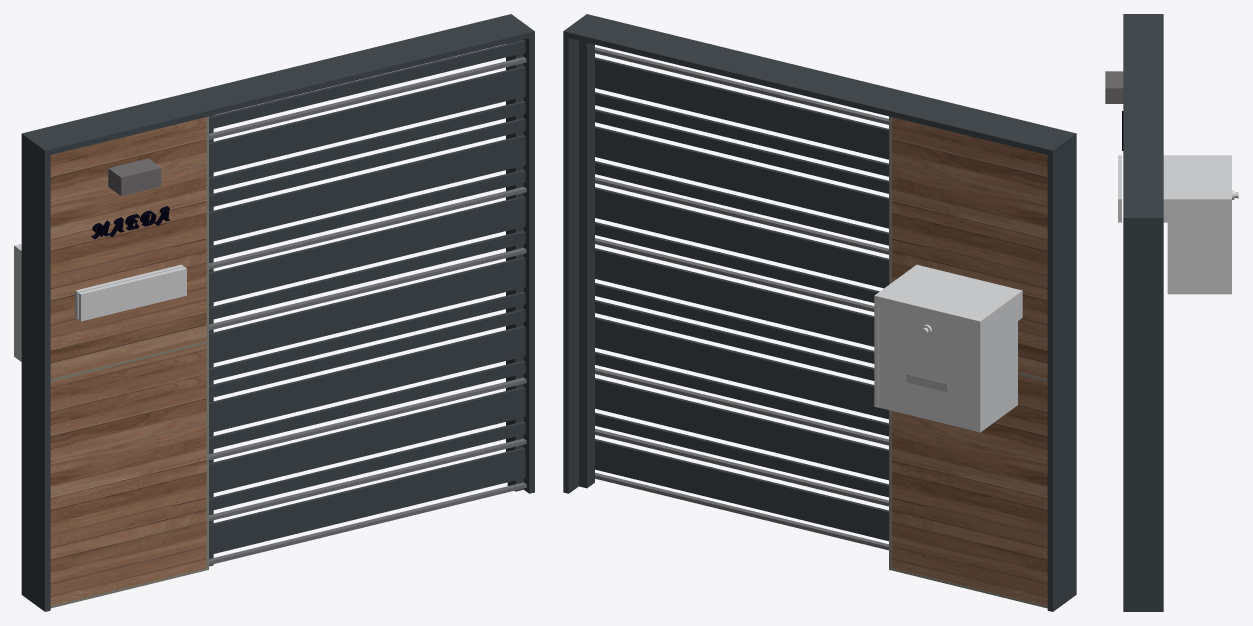
The model's file is ab48-m_jara.fbx.
3 views of the same model, side by side, from view 1: azimuth 30°, elevation 25°; view 2: azimuth 150°, elevation 25°; view 3: azimuth 270°, elevation 25° (orthographic). The views are drawn at different scales.
Visible parts, largest first — view 1: ab48-m_jara-hg; view 2: ab48-m_jara-hg; view 3: ab48-m_jara-hg.
Part boxes in pixels (x1,y1,x2,y2): ab48-m_jara-hg: (14, 14, 534, 611); ab48-m_jara-hg: (563, 14, 1076, 611); ab48-m_jara-hg: (1105, 14, 1238, 611).
Size of the model in its own units: 180 by 162 by 49.6.
10 materials, 4 textured.
